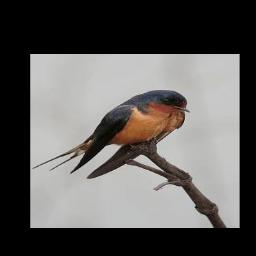Swallow: (34, 89, 192, 178)
